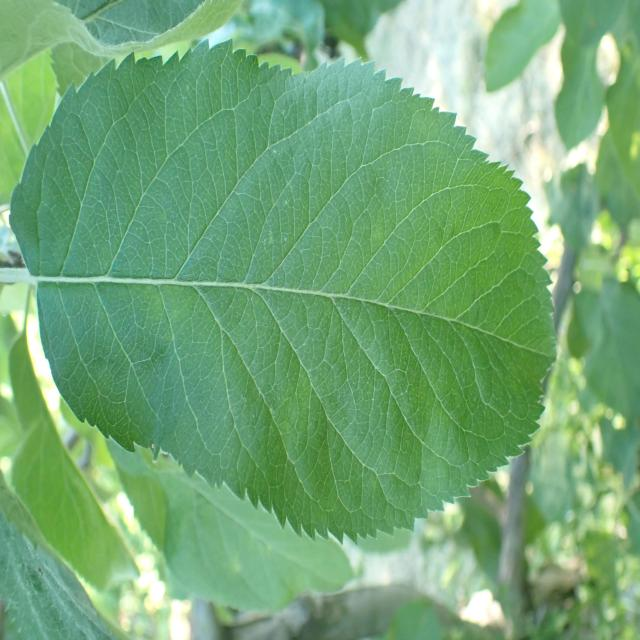healthy: (11, 38, 558, 545), (108, 435, 354, 615), (5, 316, 142, 594)
